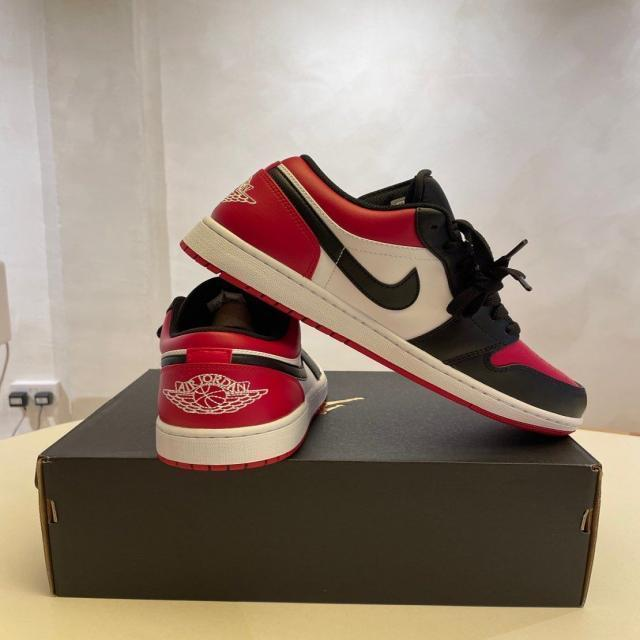nike original jordan 1: (172, 153, 596, 440), (154, 274, 330, 477)
